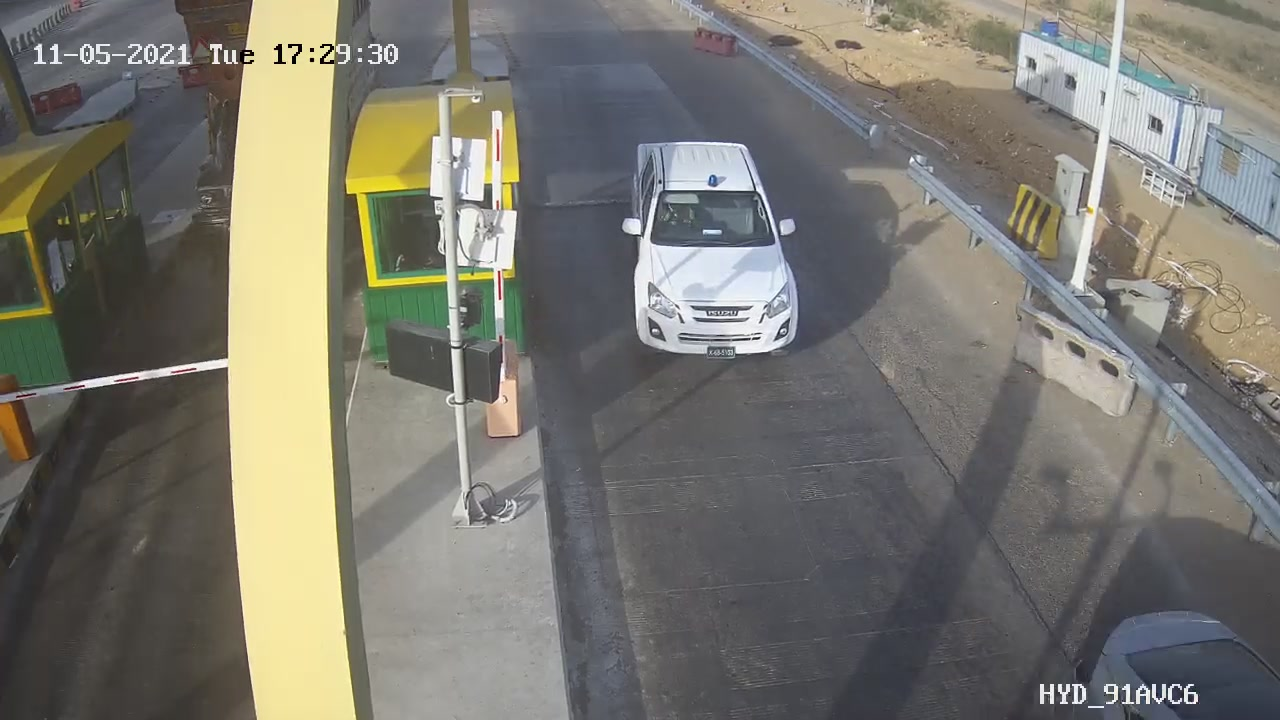F1: (605, 121, 816, 385)
